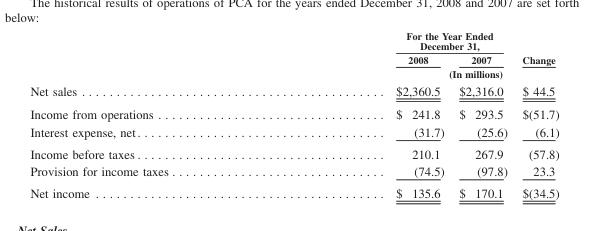table: (29, 29, 558, 199)
table column: (29, 29, 281, 199), (281, 29, 451, 199), (451, 29, 514, 199), (514, 29, 558, 199)
table column header: (29, 29, 558, 81)
table row: (29, 29, 558, 52), (29, 81, 558, 102), (29, 102, 558, 123), (29, 142, 558, 162), (29, 123, 558, 142), (29, 162, 558, 181), (29, 181, 558, 199), (29, 66, 558, 81), (29, 52, 558, 66)
table spanning cell: (281, 29, 514, 52), (281, 66, 558, 81), (514, 29, 558, 66)
